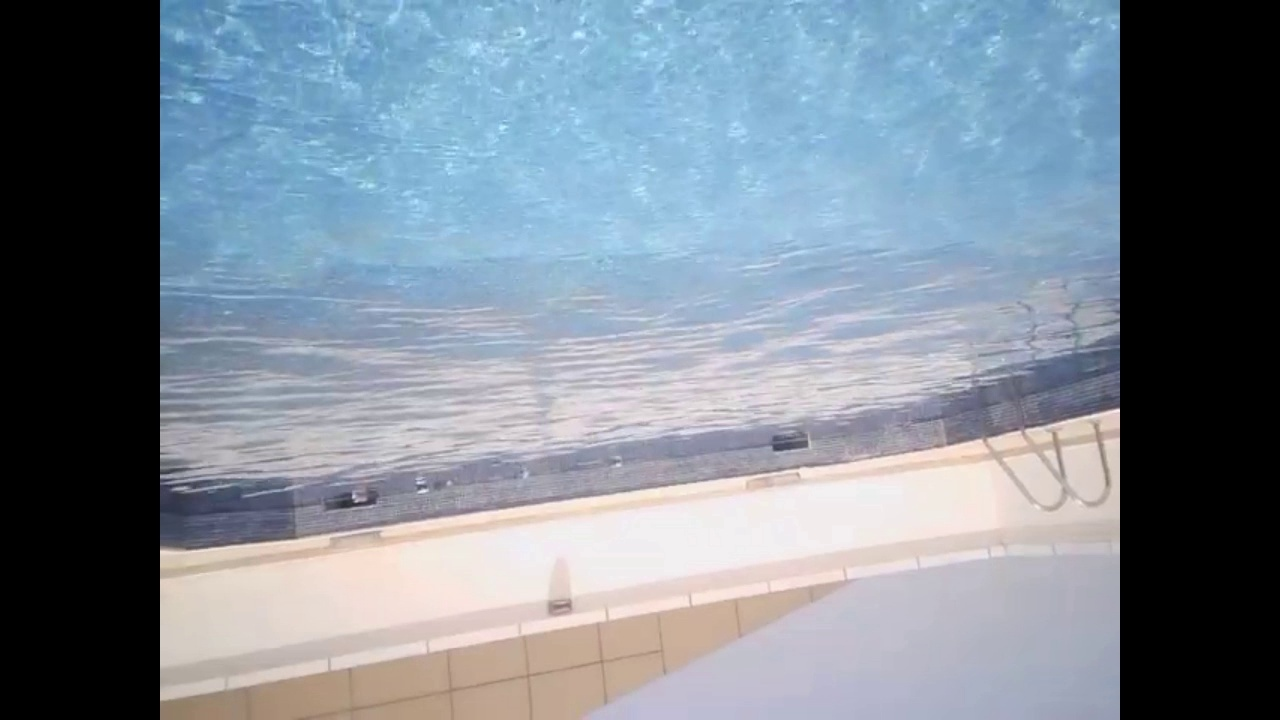debris: (345, 486, 369, 503), (406, 477, 430, 494), (433, 476, 456, 491), (604, 456, 624, 470)
